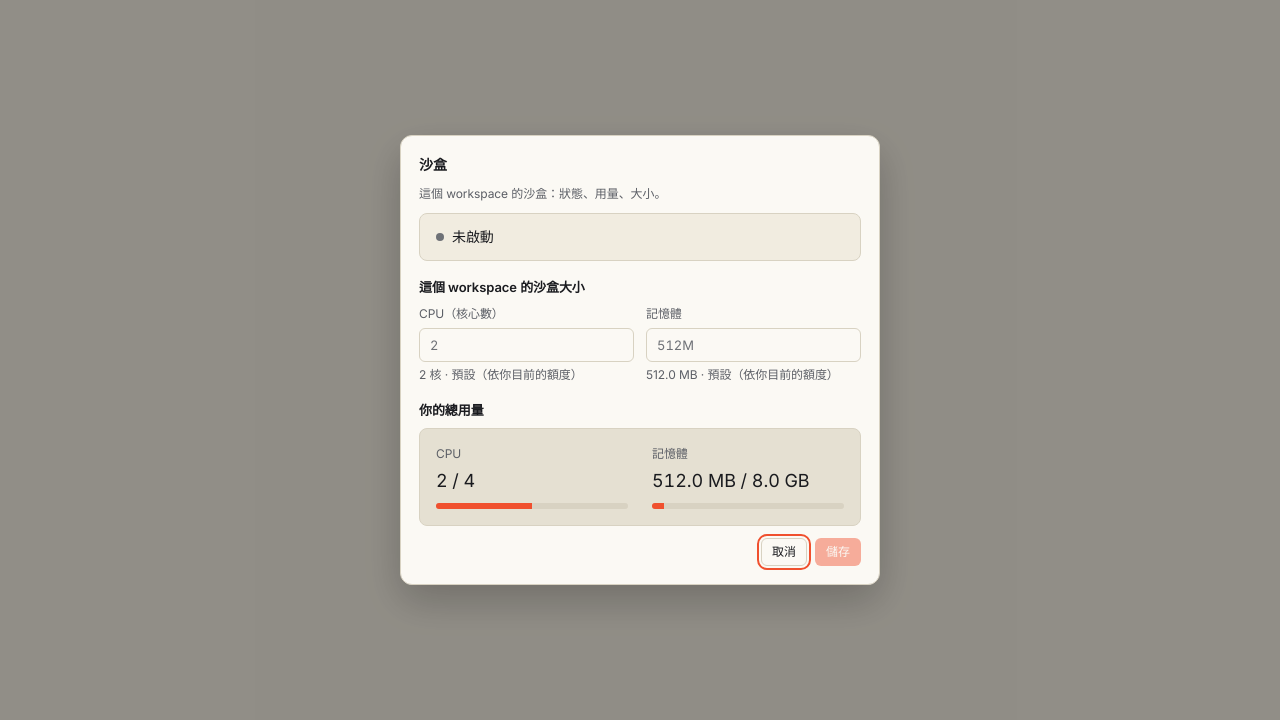
Test: ItemEnvironmentModal — Save › a dirty Escape asks the same question — every deliberate exit goes through the guard
Step 1. Type "3" into the number field with test id "cpu-input" → (526, 345), box left=419, top=328, right=634, bottom=362
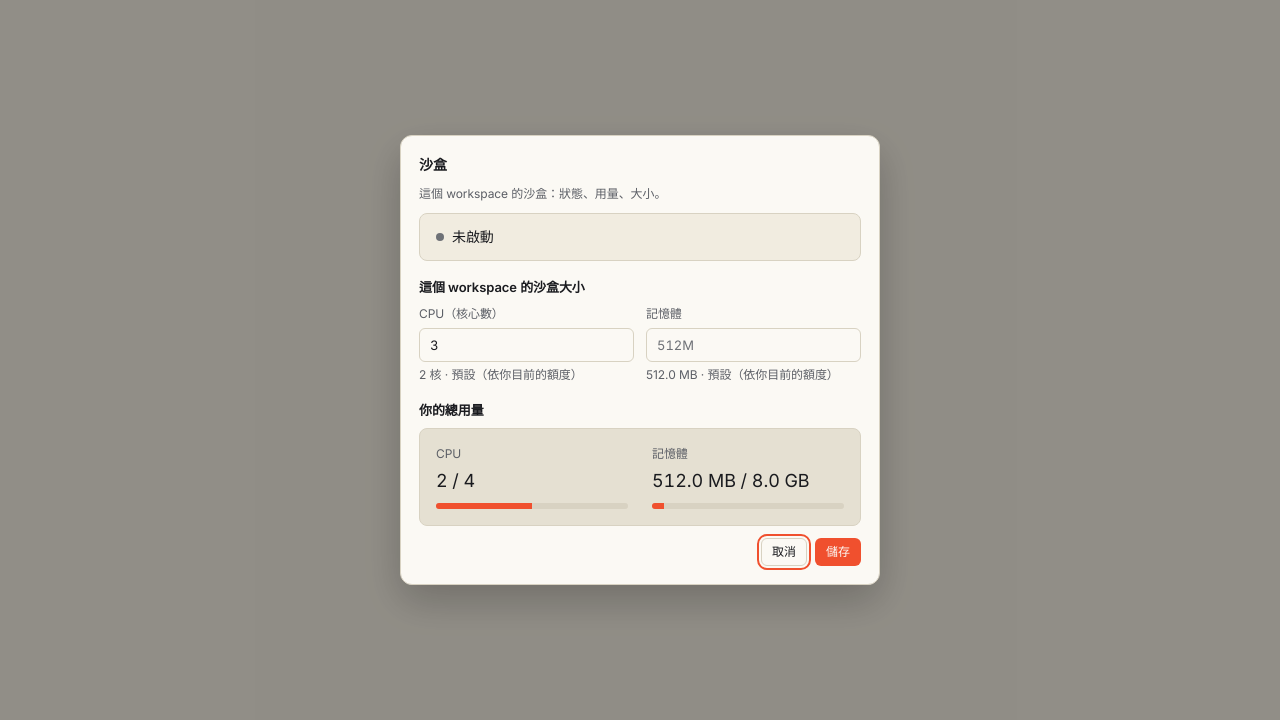
Step 2. Press Escape
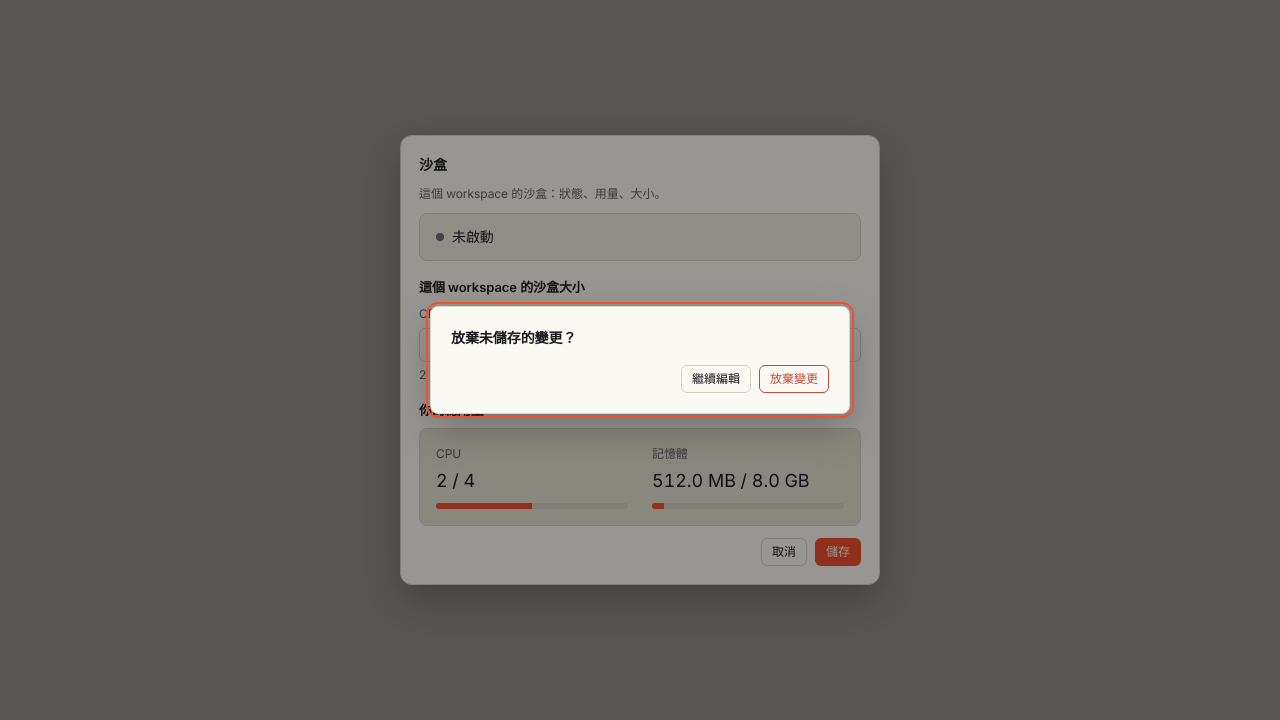
Expected: the button with test id "dialog-action-discard" is shown, left=759, top=365, right=829, bottom=393
